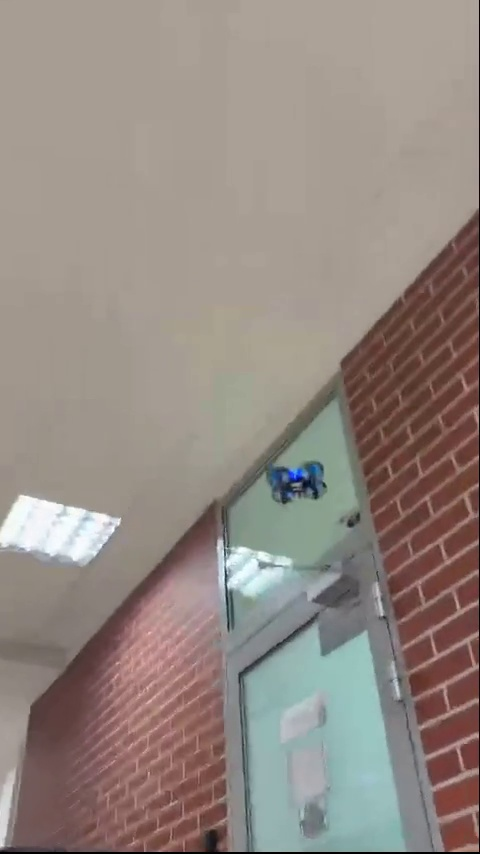drone: (265, 463, 325, 503)
